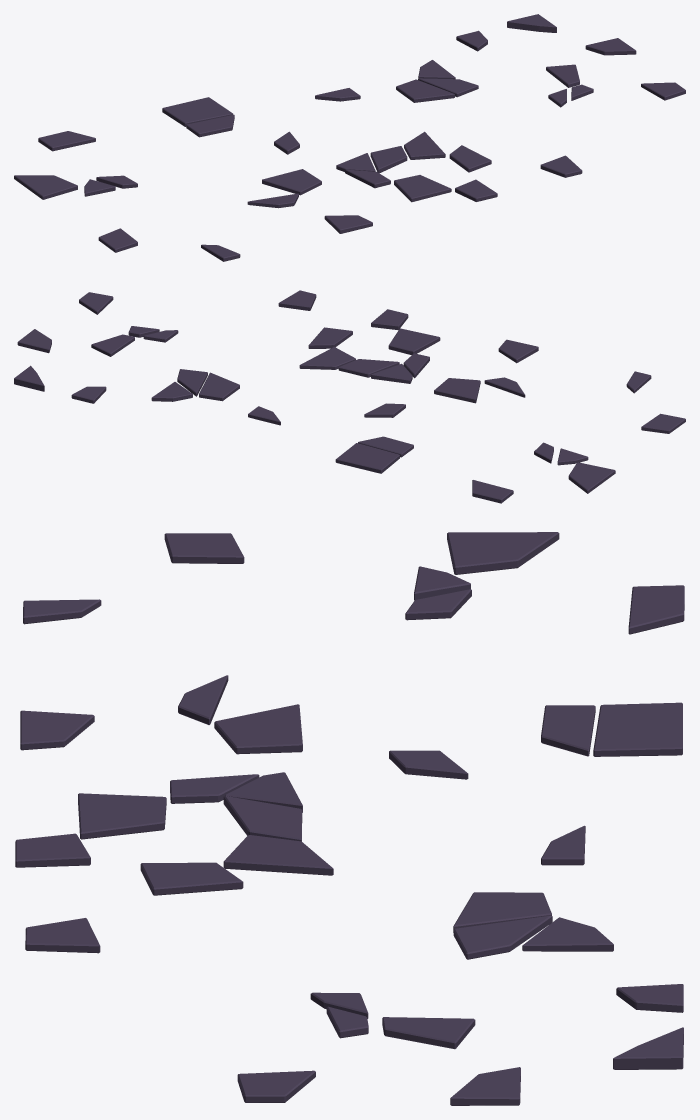
The model's file is Floor2_StoneDark.fbx.
3 views of the same model, one above another, from view 1: azimuth 30°, elevation 25°; view 2: azimuth 150°, elevation 25°; view 3: azimuth 270°, elevation 25° (orthographic). The views are drawn at different scales.
Parts seen in each view (by area): view 1: Slab1_0_2.001; view 2: Slab1_0_2.001; view 3: Slab1_0_2.001.
Part boxes in pixels (box(x1,y1,x2,y2)): Slab1_0_2.001: box(14, 14, 685, 261); Slab1_0_2.001: box(14, 290, 685, 503); Slab1_0_2.001: box(15, 532, 684, 1105).
Bounding box in the file's own units: 14954 × 164 × 7467.
